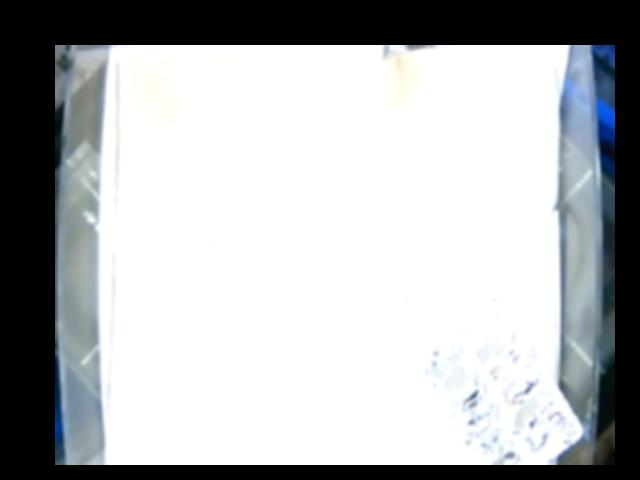Medicine: (423, 297, 584, 464)
